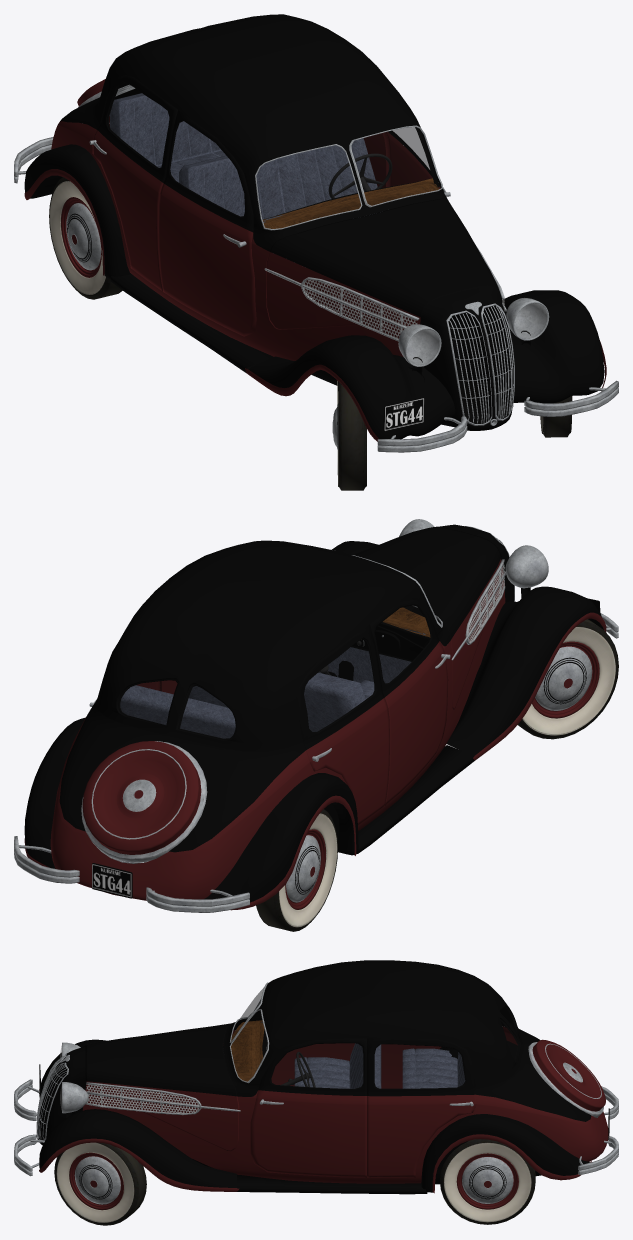
The model's file is bmw-inspired-1930s-saloon-car-879bf4.glb.
The picture shows the model from 3 angles, top to bottom: view 1: azimuth 30°, elevation 25°; view 2: azimuth 150°, elevation 25°; view 3: azimuth 270°, elevation 25°; orthographic projection. The views are drawn at different scales.
Parts seen in each view (by area): view 1: body, wheel-front-right, wheel-back-right, wheel-front-left; view 2: body, wheel-front-right, wheel-back-right; view 3: body, wheel-back-left, wheel-front-left.
Part boxes in pixels (bbox=[...]): body: bbox=[14, 14, 618, 452]; wheel-front-right: bbox=[337, 381, 366, 490]; wheel-back-right: bbox=[49, 177, 122, 299]; wheel-front-left: bbox=[540, 396, 572, 437]; body: bbox=[14, 519, 618, 912]; wheel-front-right: bbox=[518, 619, 618, 739]; wheel-back-right: bbox=[256, 809, 337, 931]; body: bbox=[14, 960, 618, 1210]; wheel-back-left: bbox=[440, 1139, 535, 1224]; wheel-front-left: bbox=[54, 1142, 146, 1225].
Size of the model in its own units: 2.23 by 2.04 by 5.61.
Materials: 13 (7 with a texture image).
